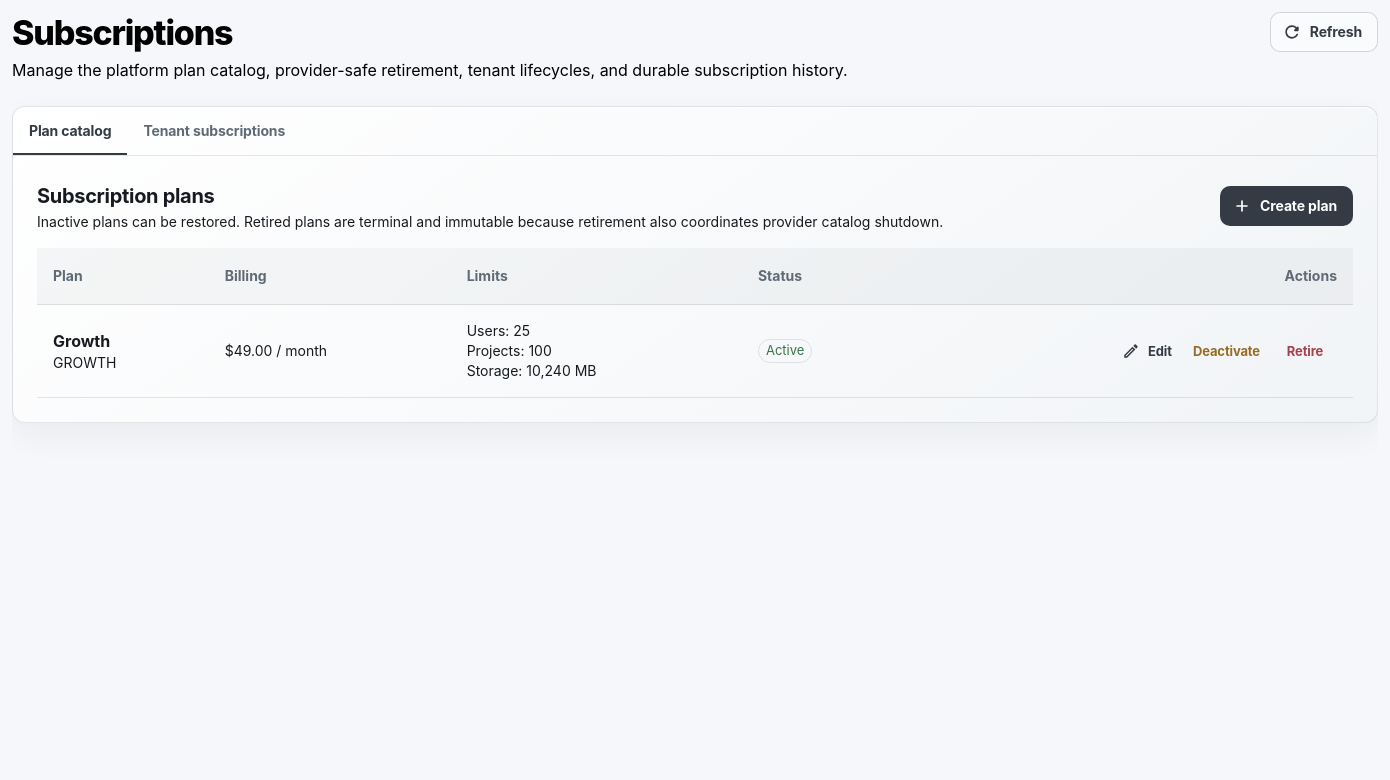
Test case: SystemSubscriptionsPage › uses tenant search instead of a raw UUID field
What coordinates should you click on to do the following:
click the tab "Tenant subscriptions"
I would click on:
 (214, 131)
Its box is [127,107,301,155].
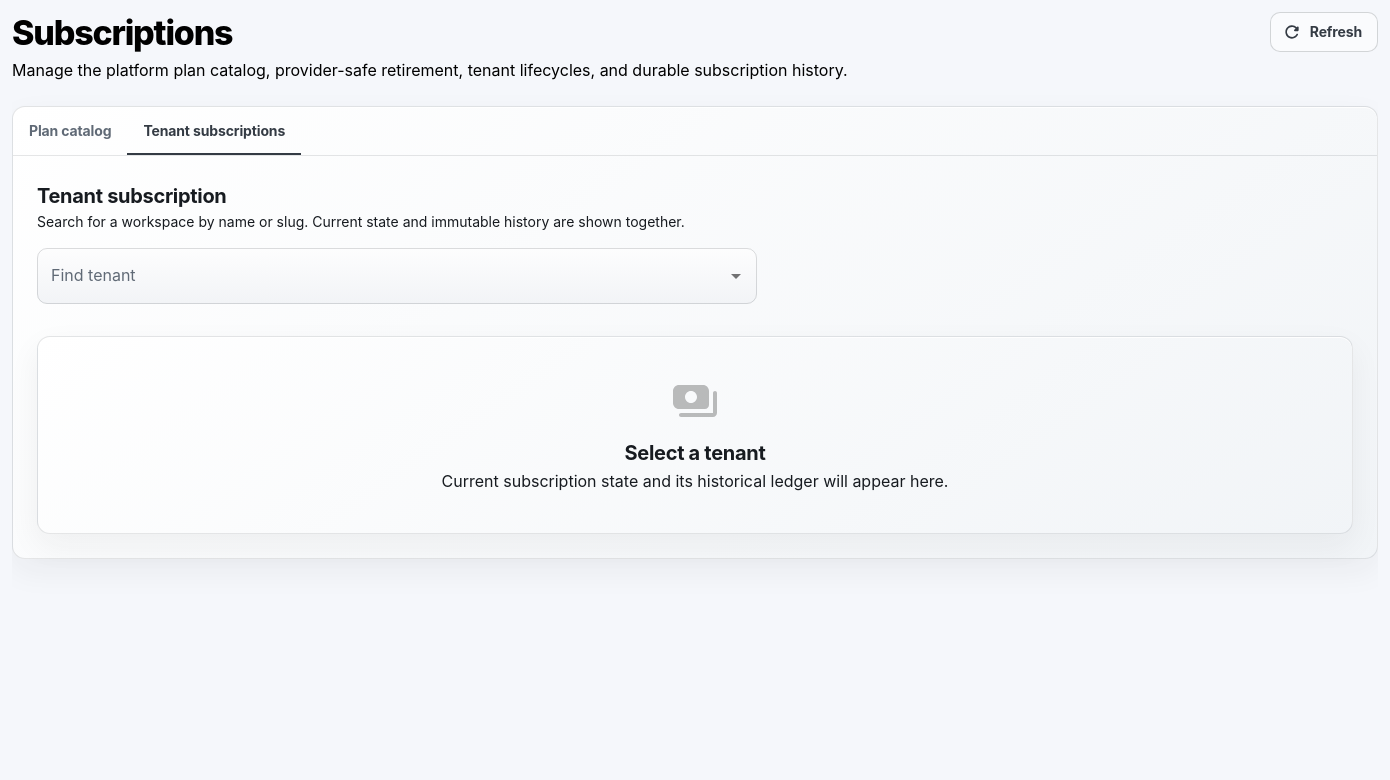
Check: the dropdown labelled "Find tenant" is shown, box [46,257,718,295]
